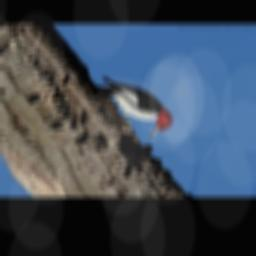Woodpecker: (84, 72, 183, 141)
